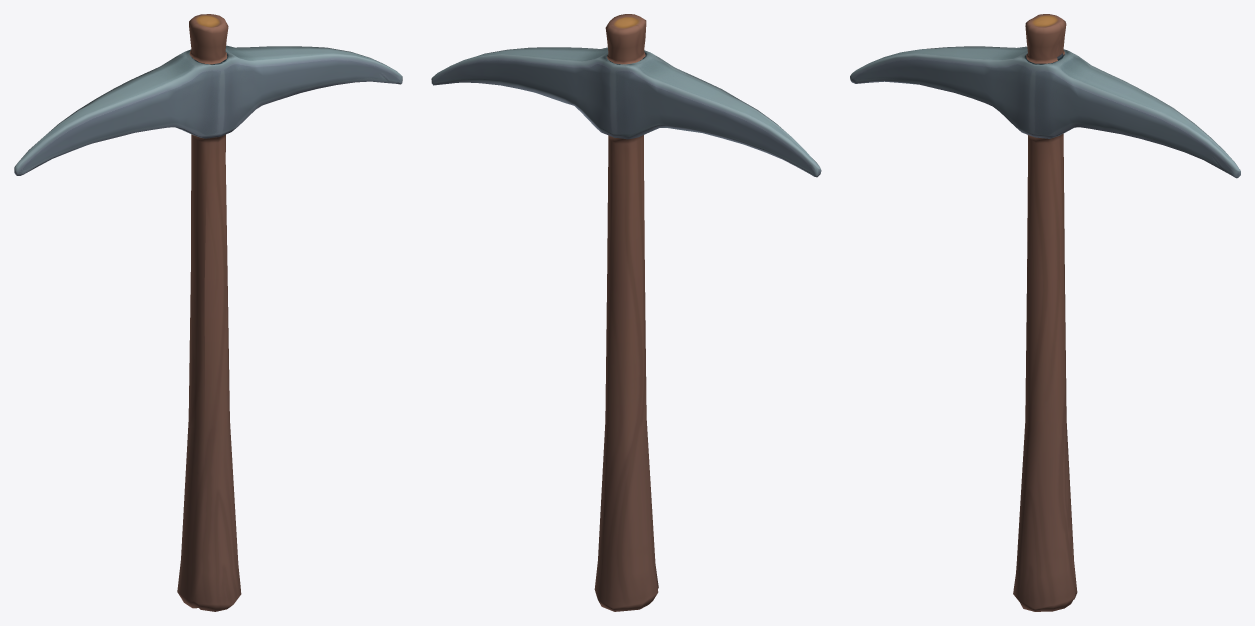
The model's file is Pickaxe_new.fbx.
The picture shows the model from 3 angles, left to right: view 1: azimuth 30°, elevation 25°; view 2: azimuth 150°, elevation 25°; view 3: azimuth 330°, elevation 25°; orthographic projection.
Parts seen in each view (by area): view 1: PickaxeRetopo_LP:polySurface1; view 2: PickaxeRetopo_LP:polySurface1; view 3: PickaxeRetopo_LP:polySurface1.
Boxes of the visible parts, <box> form: PickaxeRetopo_LP:polySurface1: <box>14,14,402,611</box>; PickaxeRetopo_LP:polySurface1: <box>431,14,821,611</box>; PickaxeRetopo_LP:polySurface1: <box>850,14,1240,611</box>.
Bounding box in the file's own units: 231 × 329 × 36.16.
